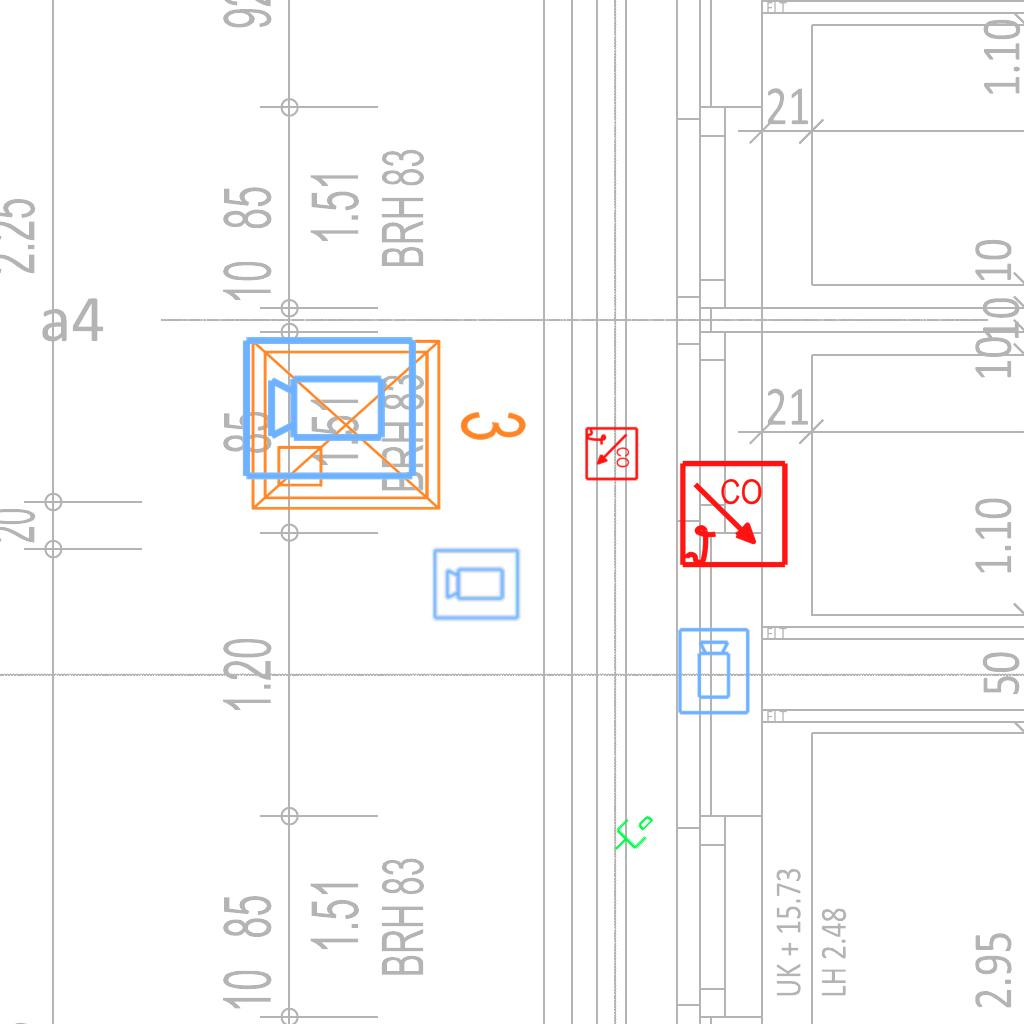Datenanschluss_einfach: (602, 802, 662, 862)
Einbaudownlights_LED_Konferenzraeume: (237, 317, 537, 525)
KFO_Kamera_mit_Festobjektiv: (239, 330, 421, 484), (676, 626, 753, 717), (431, 545, 522, 622)
ROA_Rauchmelder_optisch_mit_Signalgeber_(Sockelsirene): (678, 459, 791, 572), (583, 426, 639, 482)
